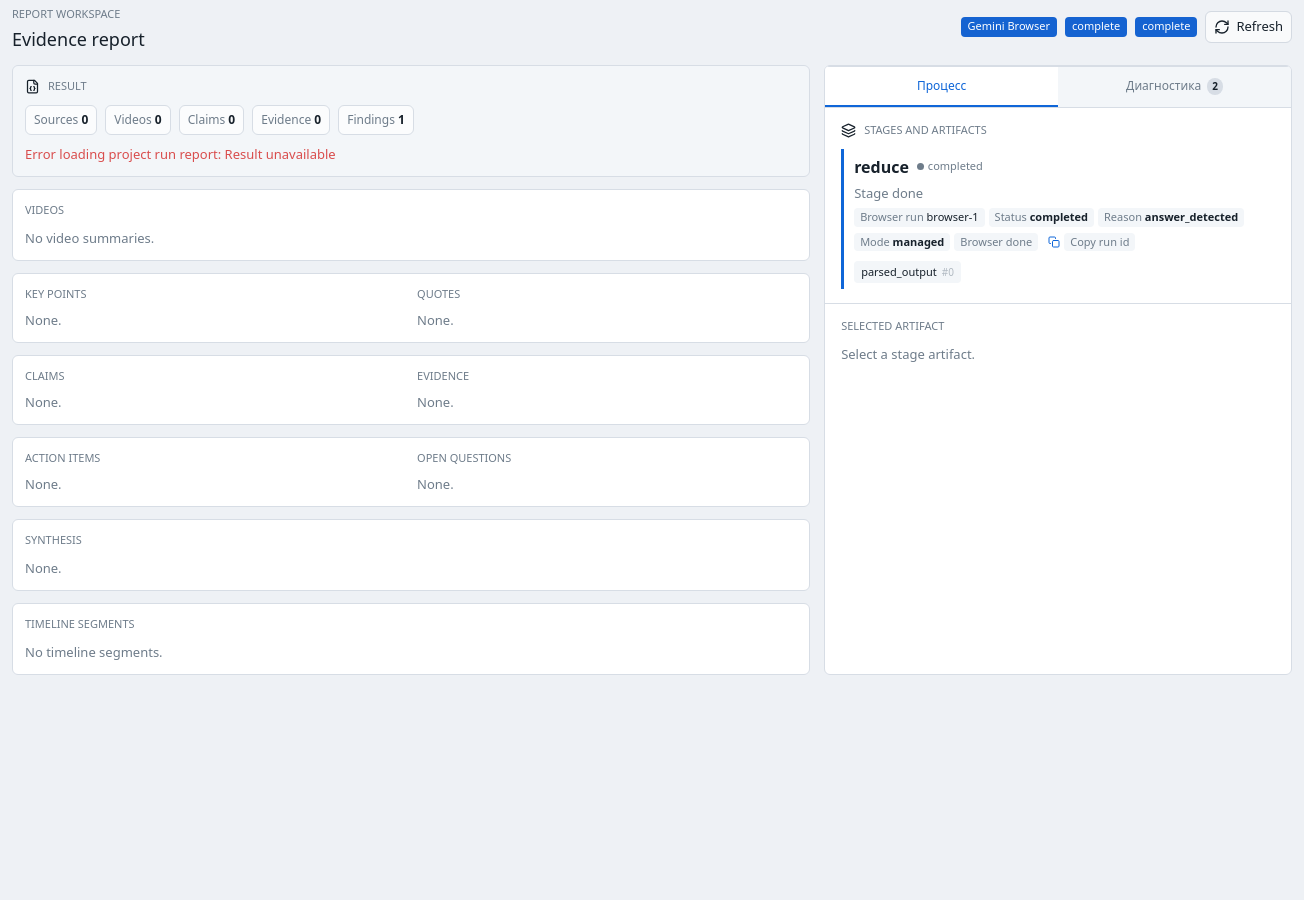
Test: project runs screen › formats object-shaped prompt-pack report errors instead of rendering raw objects
The image size is (1304, 900).
Expected: the text "Error loading project run report: Result unavailable" is shown, x1=25 y1=144 x2=336 y2=162
What coordinates should you click on to do the following:
click the button "parsed_output #0"
I would click on:
 (908, 272)
Its box is x1=854 y1=261 x2=961 y2=283.
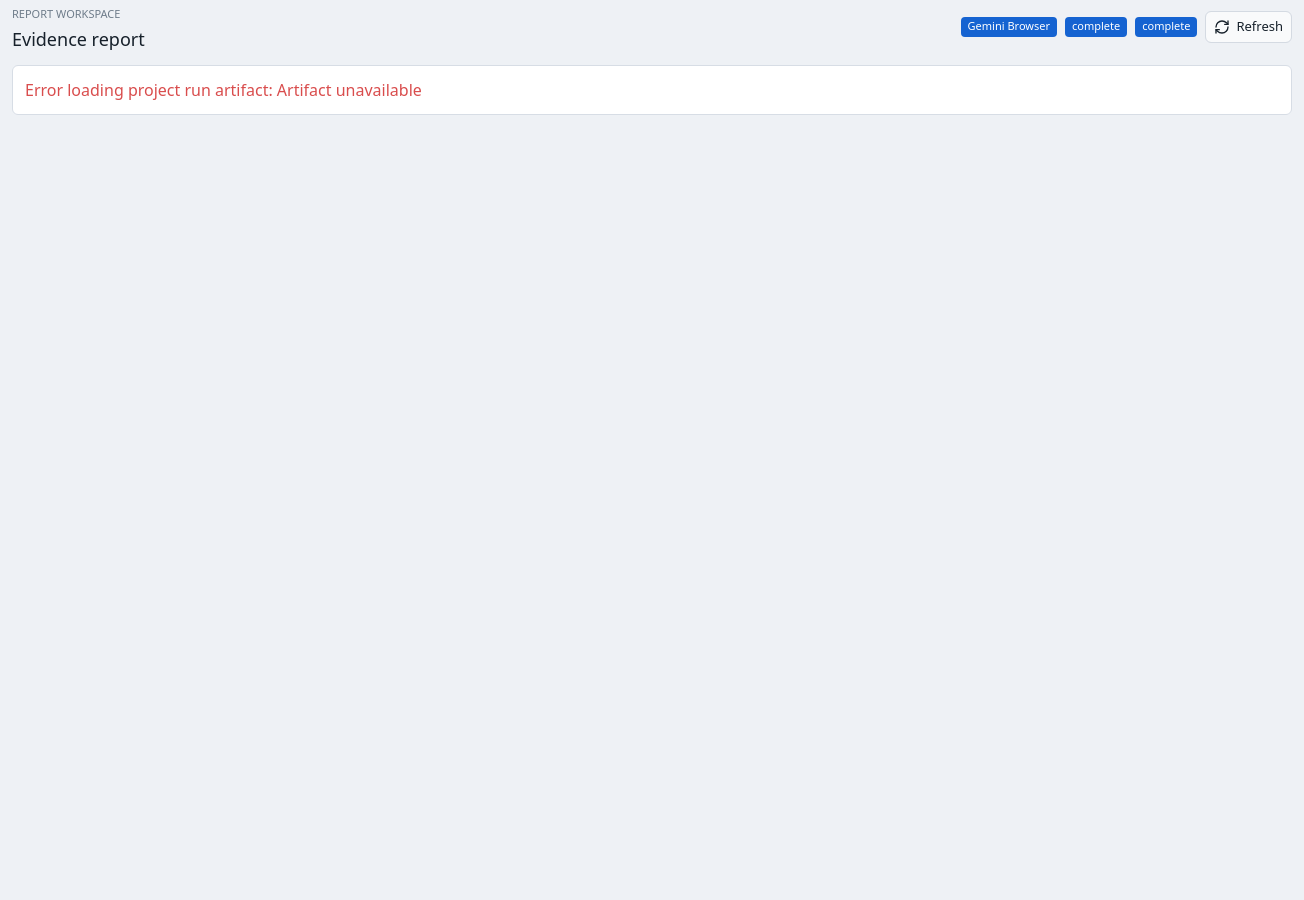
Expected: the text "Error loading project run artifact: Artifact unavailable" is shown, x1=12 y1=65 x2=1292 y2=115
